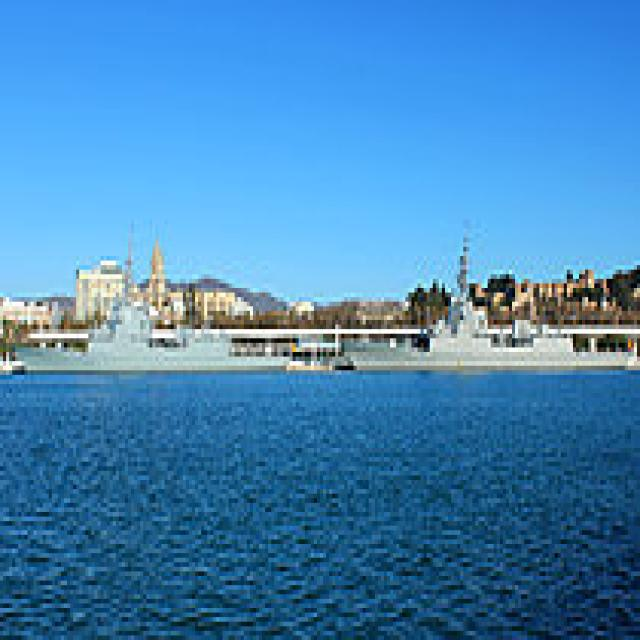Warship: (332, 283, 628, 375), (6, 284, 290, 371)
